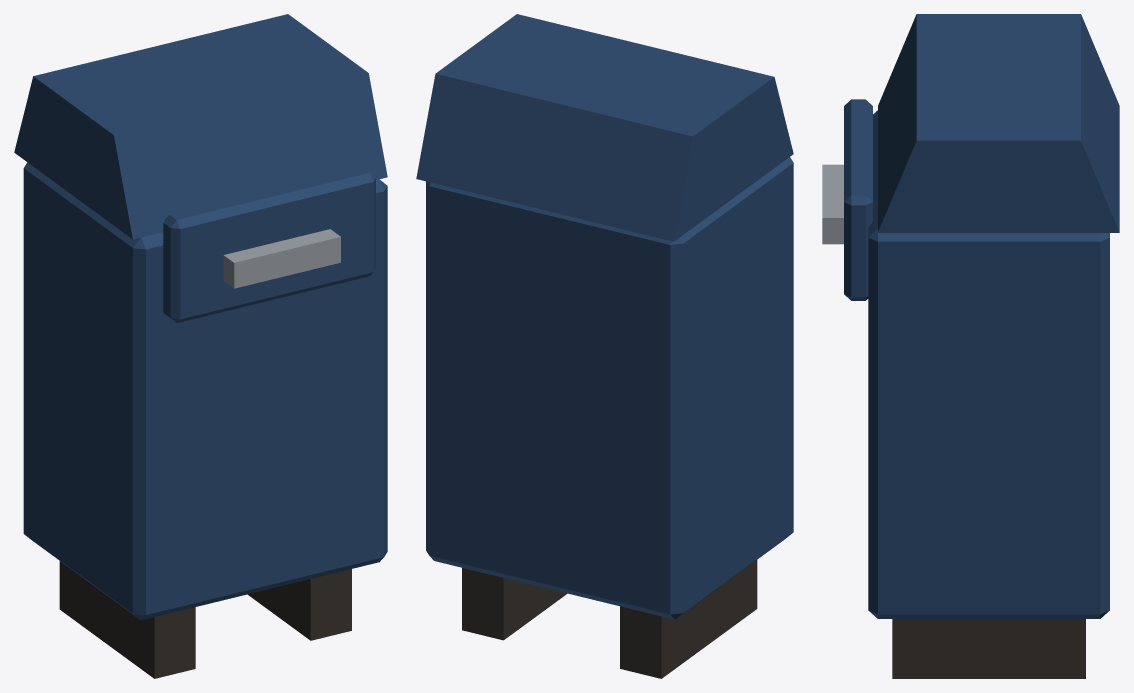
File: mailbox.glb
The picture shows the model from 3 angles, left to right: view 1: azimuth 30°, elevation 25°; view 2: azimuth 150°, elevation 25°; view 3: azimuth 270°, elevation 25°; orthographic projection.
Visible parts, largest first — view 1: mailbox_body, mailbox_lid, mailbox_hatch, mailbox_legL, mailbox_legR, mailbox_handle; view 2: mailbox_body, mailbox_lid, mailbox_legL, mailbox_legR; view 3: mailbox_body, mailbox_lid, mailbox_legR, mailbox_hatch, mailbox_handle.
Boxes of the visible parts, left/top/right/bottom form: mailbox_body: left=23, top=162, right=387, bottom=620; mailbox_lid: left=14, top=14, right=387, bottom=239; mailbox_hatch: left=163, top=167, right=375, bottom=322; mailbox_legL: left=59, top=561, right=195, bottom=678; mailbox_legR: left=247, top=569, right=351, bottom=640; mailbox_handle: left=223, top=229, right=340, bottom=288; mailbox_body: left=426, top=157, right=793, bottom=619; mailbox_lid: left=416, top=14, right=793, bottom=241; mailbox_legL: left=620, top=560, right=757, bottom=678; mailbox_legR: left=462, top=568, right=567, bottom=640; mailbox_body: left=868, top=110, right=1109, bottom=618; mailbox_lid: left=878, top=14, right=1119, bottom=232; mailbox_legR: left=892, top=619, right=1085, bottom=678; mailbox_hatch: left=844, top=99, right=872, bottom=300; mailbox_handle: left=822, top=164, right=843, bottom=244.
Bounding box in the file's own units: 0.62 × 1.26 × 0.615.
